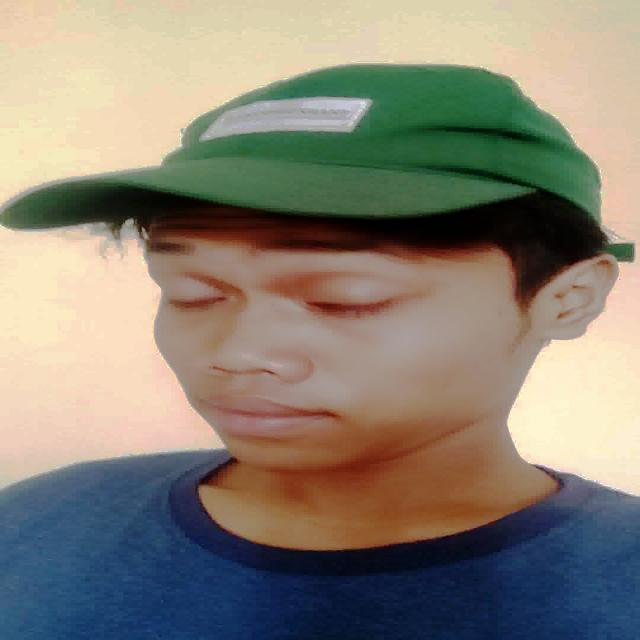TOPI: (0, 48, 618, 254)
